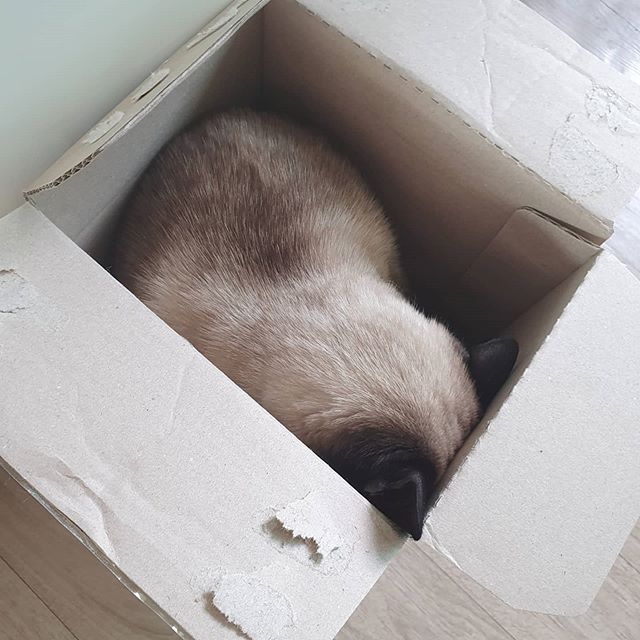cat: (276, 304, 526, 539)
